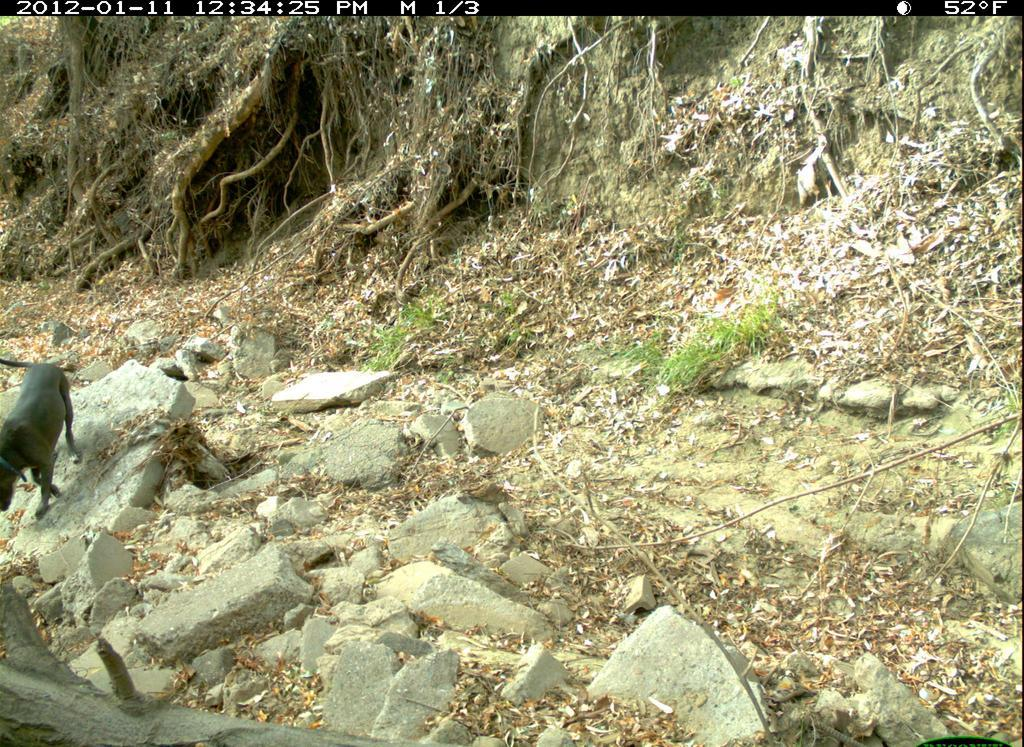dog: (2, 351, 84, 529)
